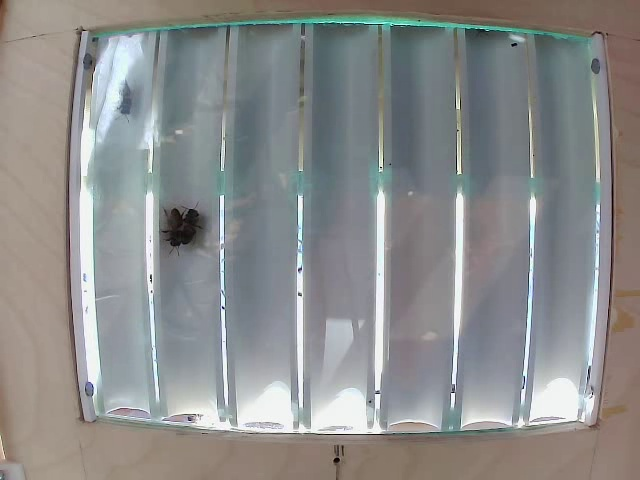bee: (105, 73, 144, 125), (180, 211, 211, 252), (161, 207, 184, 250)
